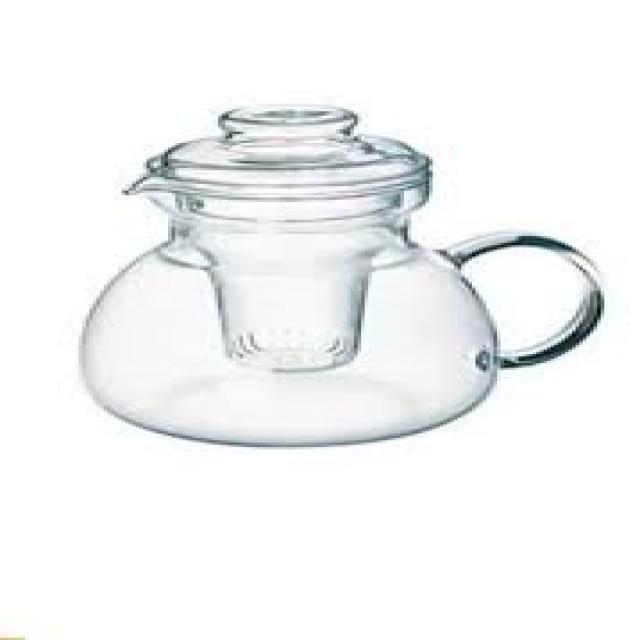Glass: (74, 104, 606, 452)
